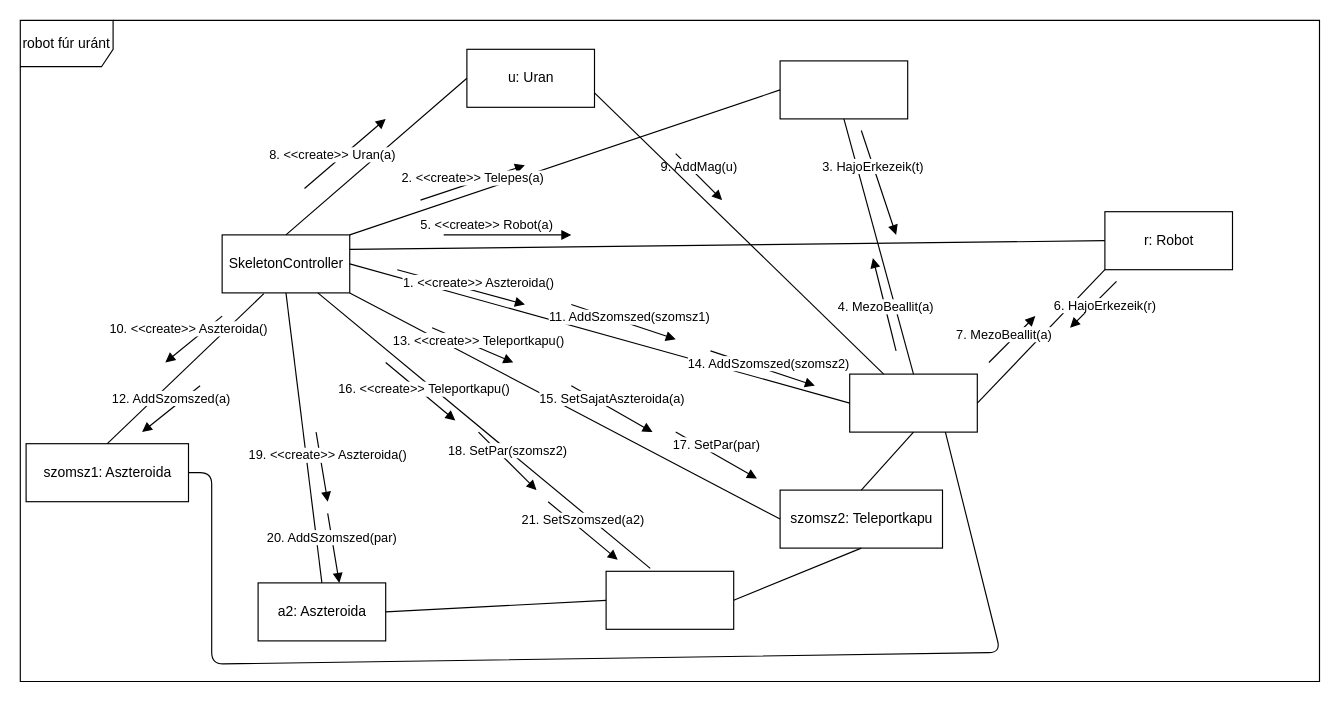
This 1340x702 diagram has some shape labels left out. The shapes that lost their labels are listed below. From the top down, each one's centre as x and y in pixels, then its label:
At point (843, 89): "t: Telepes".
At point (913, 402): "a: Aszteroida".
At point (669, 599): "par: Teleportkapu".
